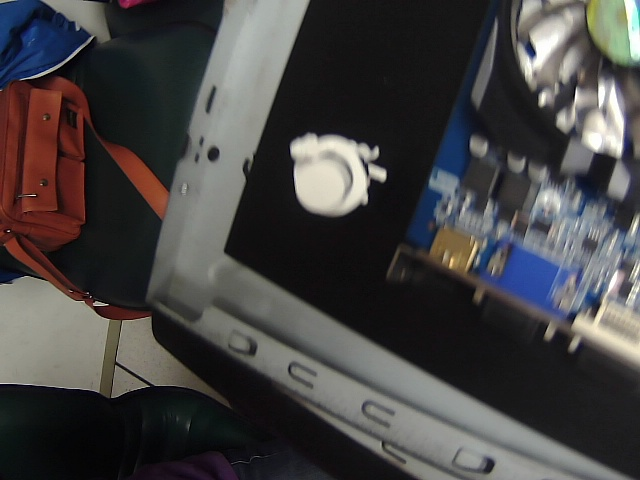lucci: (277, 121, 399, 237)
